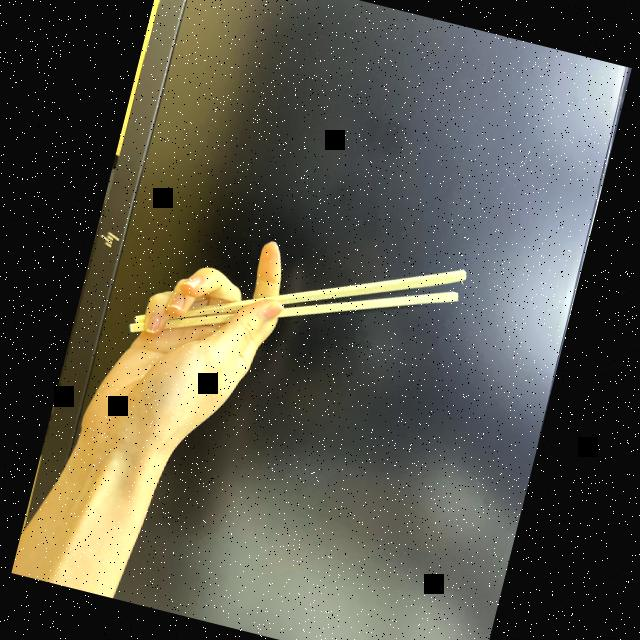stick: (80, 188, 471, 504)
